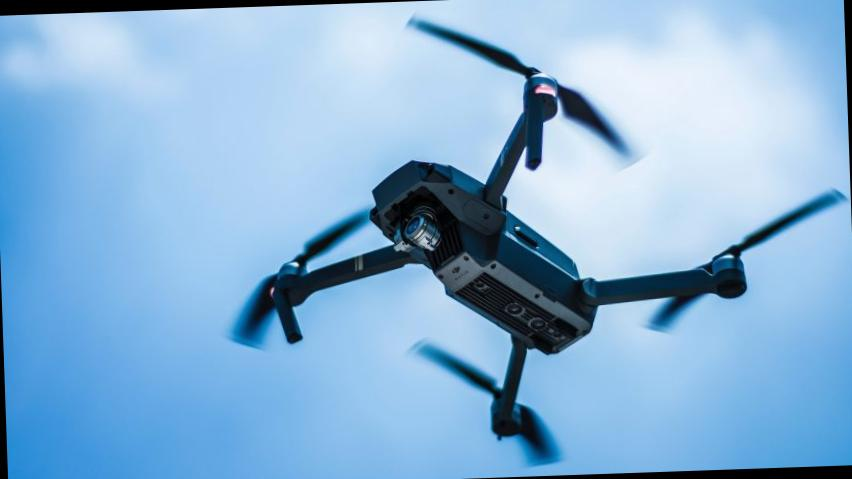drone: (226, 29, 843, 454)
